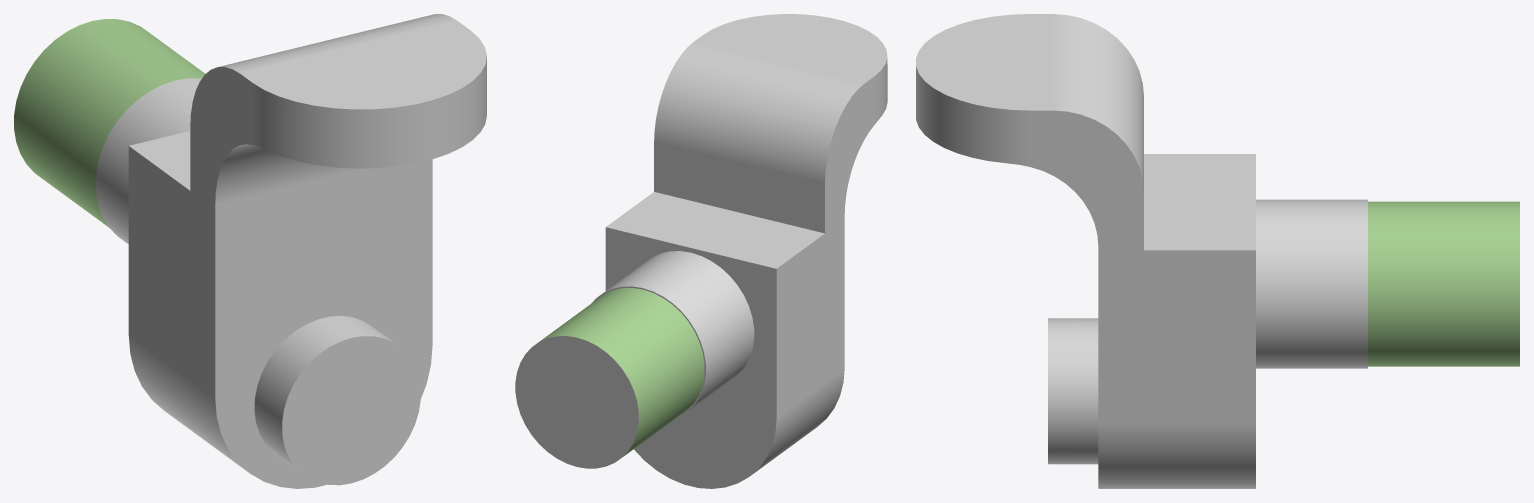
Rendered from wheelpod.dae.
3 views of the same model, side by side, from view 1: azimuth 30°, elevation 25°; view 2: azimuth 150°, elevation 25°; view 3: azimuth 270°, elevation 25° (orthographic). The views are drawn at different scales.
Parts seen in each view (by area): view 1: ID2; view 2: ID2; view 3: ID2.
Boxes of the visible parts, left/top/right/bottom form: ID2: left=14, top=14, right=486, bottom=488; ID2: left=515, top=14, right=887, bottom=488; ID2: left=916, top=14, right=1519, bottom=488.
Size of the model in its own units: 0.05 by 0.1322 by 0.1004.
